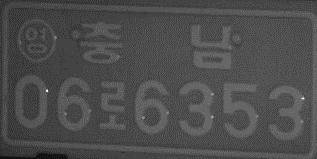0: (12, 72, 48, 130)
3: (266, 83, 306, 142), (176, 81, 214, 139)
5: (221, 82, 259, 140)
6: (55, 74, 91, 133), (132, 79, 169, 134)
로: (99, 79, 128, 131)
영: (16, 18, 56, 62)
충남_D: (79, 19, 233, 70)
